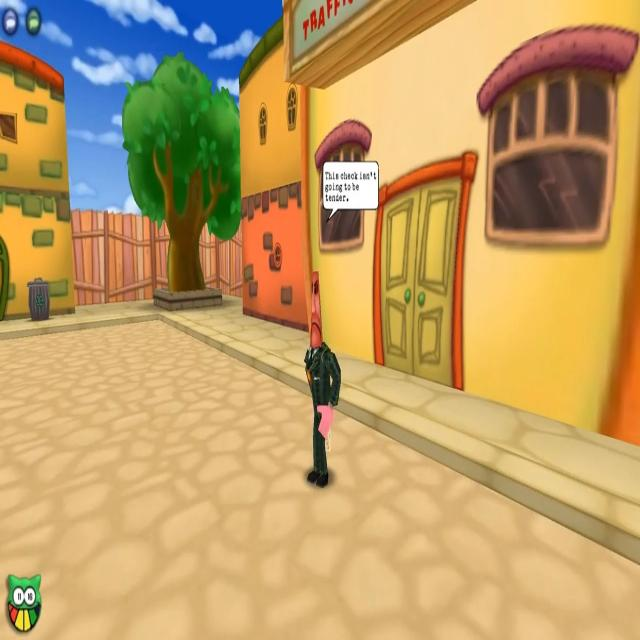pennypincher: (306, 243, 342, 489)
